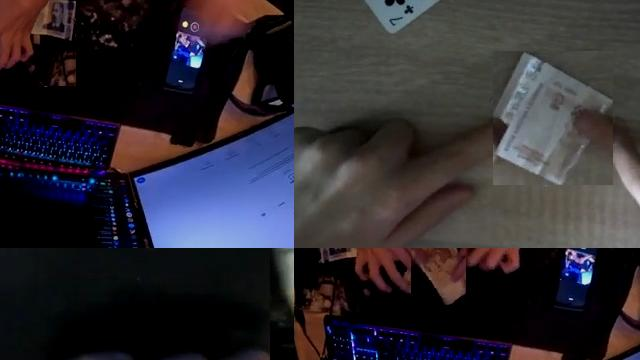50leva: (411, 248, 466, 305)
5leva: (493, 51, 613, 185)
